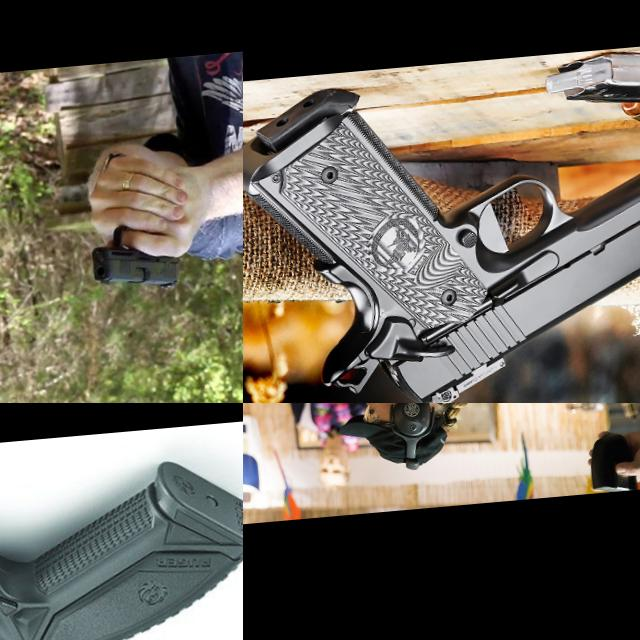handgun: (243, 43, 640, 403), (0, 439, 243, 640), (84, 217, 184, 296), (243, 403, 274, 422)
